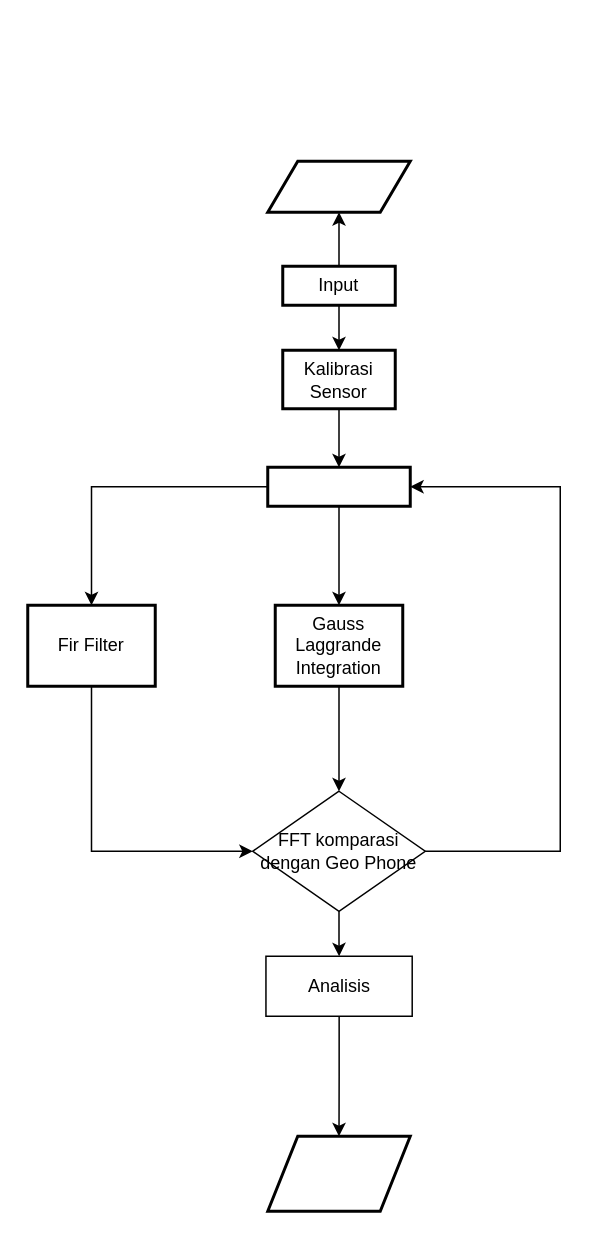
The diagram is 599 pixels wide and 1238 high, and some of its shapes have lost their labels. The shapes that lost their labels are listed below. From the top down, each one's centre as x and y in pixels, then its label:
the point at 338,186: Mulai
the point at 338,486: Band Pass Filter
the point at 338,1173: Selesai
